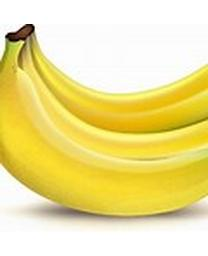banana: (0, 23, 207, 217)
